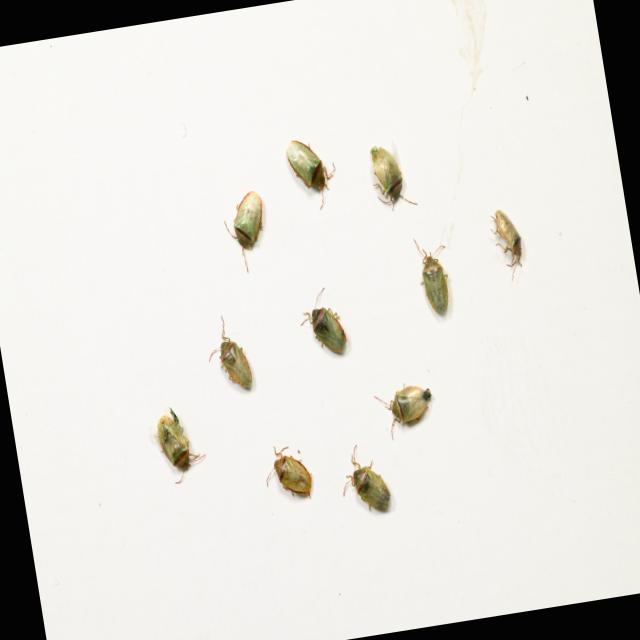stinkbug: (148, 399, 212, 492), (200, 308, 257, 406), (218, 185, 273, 278), (284, 130, 343, 214), (336, 441, 393, 518), (366, 136, 419, 218), (295, 285, 350, 364), (412, 234, 458, 320), (489, 207, 529, 282)
